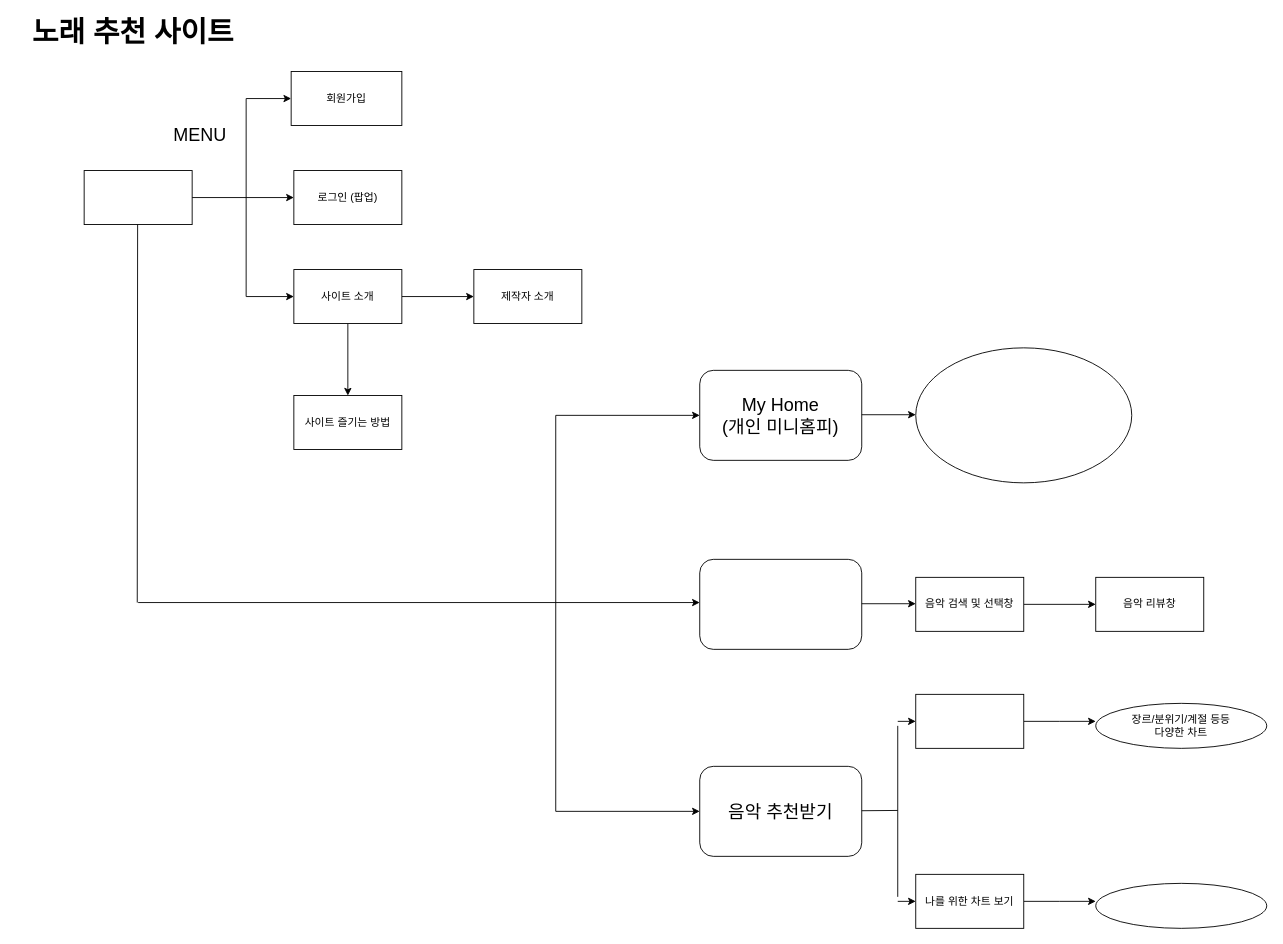
Image size: 1283x944. Some labels were removed from this diagram. The centre of each missing label's shape, as x and y in pixels:
"-뱃지 콜렉터 -내가 뽑는 명반 LP판 컨셉) -나의 음악 취향표 (리뷰모음)" belongs at (x=1023, y=415).
"내 취향 비슷한 곡 차트" belongs at (x=1181, y=905).
"메인페이지" belongs at (x=137, y=197).
"모두의 차트 보기" belongs at (x=969, y=720).
"음악 리뷰쓰기" belongs at (x=780, y=603).
